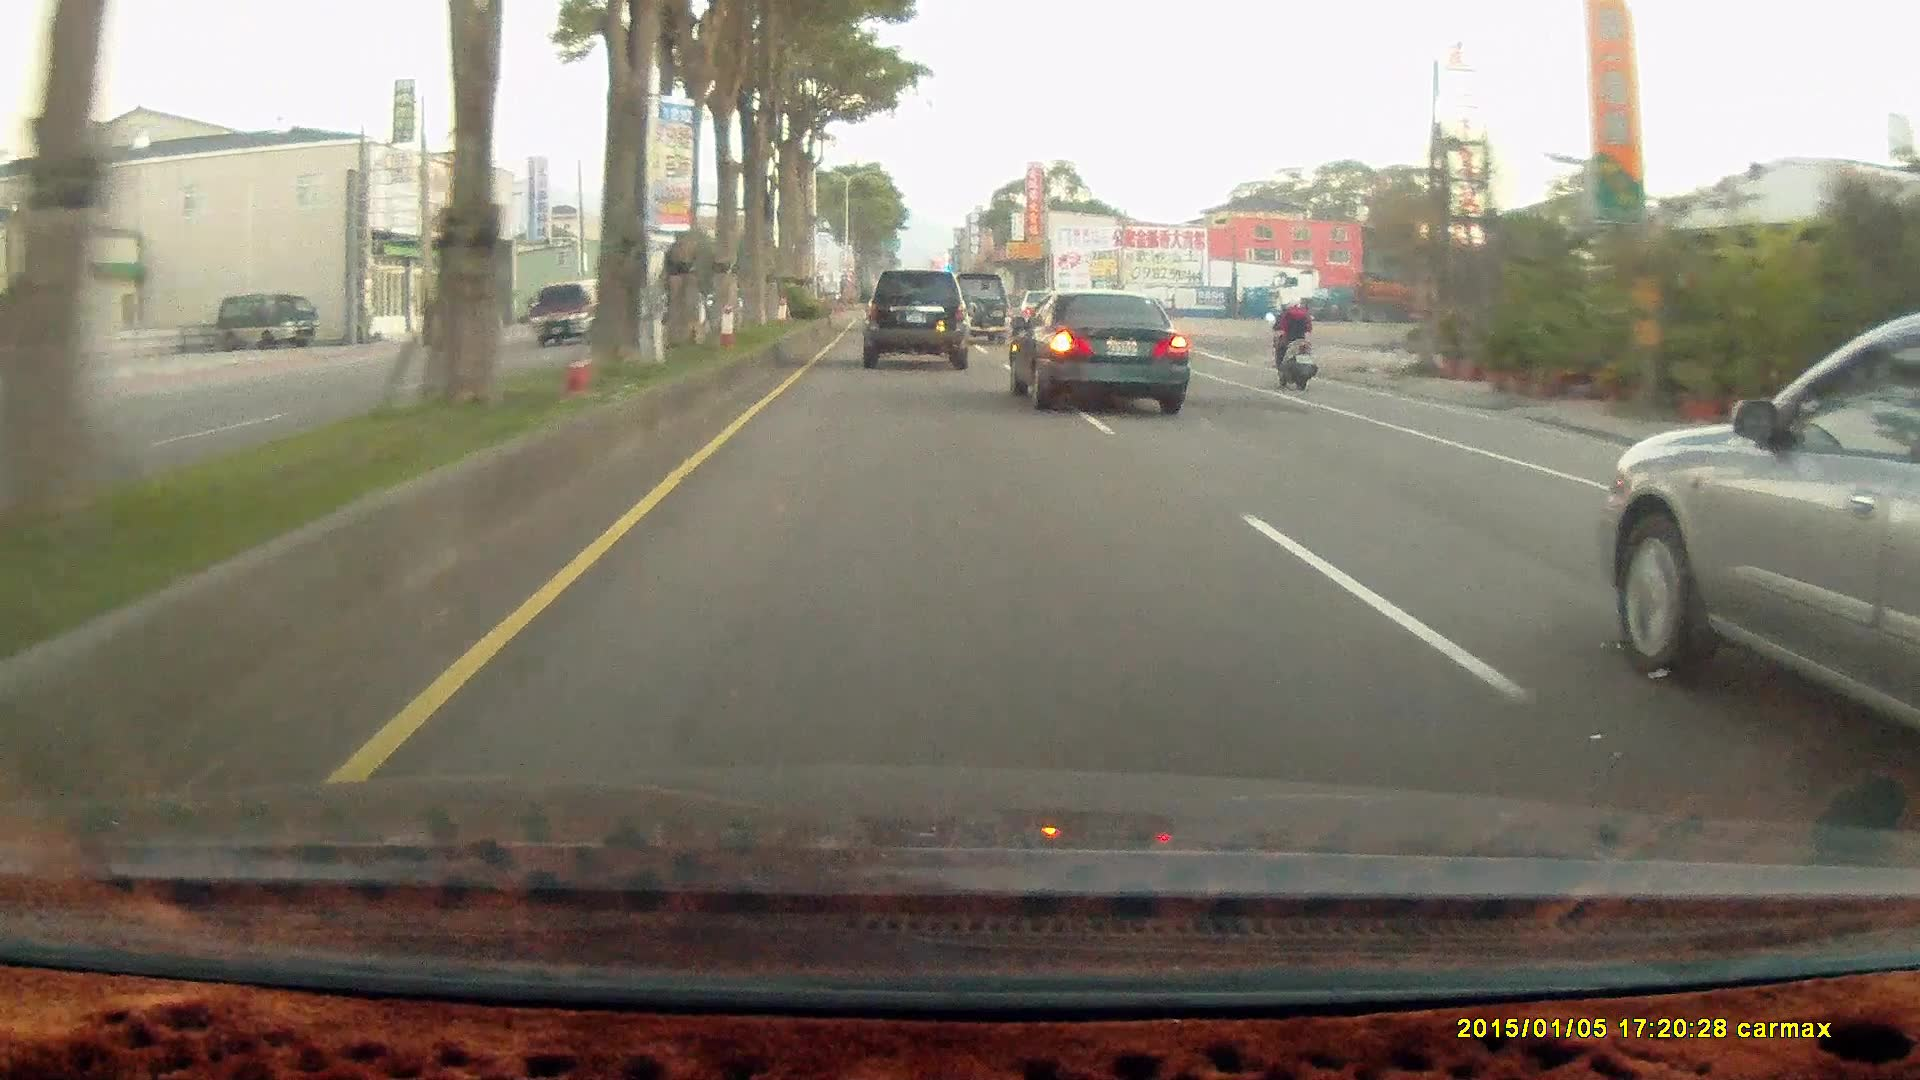rider: (1259, 282, 1327, 399), (1265, 289, 1318, 390)
vehicle: (1595, 306, 1920, 760), (1007, 288, 1193, 412), (1007, 289, 1189, 415), (1272, 265, 1512, 322), (860, 268, 974, 369), (858, 269, 967, 368), (215, 294, 316, 349), (216, 294, 317, 350), (946, 272, 1013, 347), (528, 284, 604, 349)
